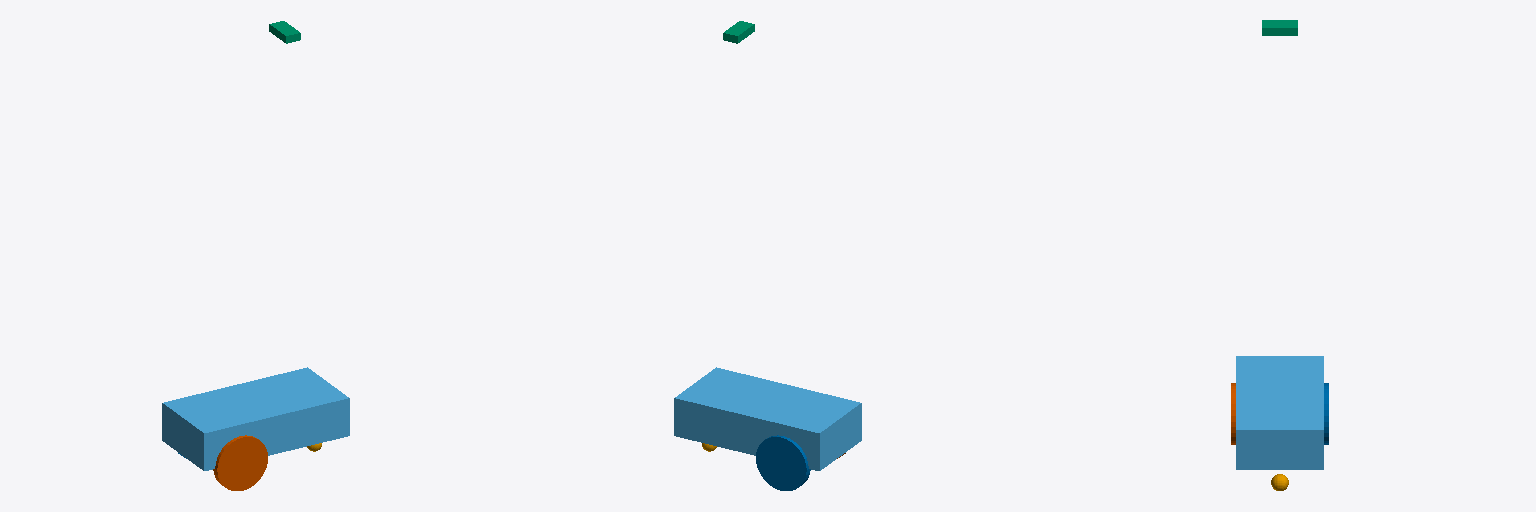
The robot description file, URDF, robot "yolobot":
<?xml version="1.0" ?>
<!-- =================================================================================== -->
<!-- |    This document was autogenerated by xacro from box_bot.xacro                  | -->
<!-- |    EDITING THIS FILE BY HAND IS NOT RECOMMENDED                                 | -->
<!-- =================================================================================== -->
<robot name="yolobot">
  <material name="black">
    <color rgba="0.0 0.0 0.0 1.0"/>
  </material>
  <material name="blue">
    <color rgba="0.203125 0.23828125 0.28515625 1.0"/>
  </material>
  <material name="green">
    <color rgba="0.0 0.8 0.0 1.0"/>
  </material>
  <material name="grey">
    <color rgba="0.2 0.2 0.2 1.0"/>
  </material>
  <material name="orange">
    <color rgba="1.0 0.423529411765 0.0392156862745 1.0"/>
  </material>
  <material name="brown">
    <color rgba="0.870588235294 0.811764705882 0.764705882353 1.0"/>
  </material>
  <material name="red">
    <color rgba="0.80078125 0.12890625 0.1328125 1.0"/>
  </material>
  <material name="white">
    <color rgba="1.0 1.0 1.0 1.0"/>
  </material>
  <gazebo reference="chassis">
    <material>Gazebo/Blue</material>
  </gazebo>
  <gazebo reference="left_wheel">
    <kp>1000.0</kp>
    <kd>1000.0</kd>
    <mu1>0.5</mu1>
    <mu2>0.5</mu2>
    <material>Gazebo/Blue</material>
  </gazebo>
  <gazebo reference="right_wheel">
    <kp>1000.0</kp>
    <kd>1000.0</kd>
    <mu1>0.5</mu1>
    <mu2>0.5</mu2>
    <material>Gazebo/Blue</material>
  </gazebo>
  <!-- ros_control plugin -->
  <gazebo>
    <plugin filename="libgazebo_ros_control.so" name="gazebo_ros_control">
      <robotNamespace>/yolobot</robotNamespace>
      <robotParam>/robot_description</robotParam>
      <robotSimType>gazebo_ros_control/DefaultRobotHWSim</robotSimType>
    </plugin>
  </gazebo>
  <gazebo>
    <plugin filename="libgazebo_ros_diff_drive.so" name="differential_drive_controller">

      <ros>
        <namespace>/yolobot</namespace>
      </ros>

      <!-- wheels -->
      <left_joint>joint_right_wheel</left_joint>
      <right_joint>joint_left_wheel</right_joint>

      <!-- kinematics -->
      <wheel_separation>0.1</wheel_separation>
      <wheel_diameter>0.025</wheel_diameter>

      <!-- limits -->
      <max_wheel_torque>0.1</max_wheel_torque>
      <max_wheel_acceleration>1.0</max_wheel_acceleration>

      <!-- output -->
      <publish_odom>true</publish_odom>
      <publish_odom_tf>true</publish_odom_tf>

      <odometry_frame>odom</odometry_frame>
      <robot_base_frame>chassis</robot_base_frame>


    </plugin>
  </gazebo>
  <!-- imu -->
  <gazebo>
    <plugin filename="libgazebo_ros_imu.so" name="gazebo_ros_imu_controller">
      <robotNamespace>/yolobot/</robotNamespace>
      <topicName>imu/data3</topicName>
      <serviceName>imu/service</serviceName>
      <bodyName>chassis</bodyName>
      <gaussianNoise>0</gaussianNoise>
      <rpyOffsets>0 0 0</rpyOffsets>
      <updateRate>50.0</updateRate>
      <alwaysOn>true</alwaysOn>
      <gaussianNoise>0</gaussianNoise>
    </plugin>
  </gazebo>

  <link name="base_link">
      </link>
  <link name="chassis">
    <!-- pose and inertial -->
    <pose>0 0 0 0 0 0</pose>
    <inertial>
      <mass value="1.0"/>
      <origin rpy="0 0 0" xyz="0 0 -0.025"/>
      <inertia ixx="0.00033333333333333343" ixy="0" ixz="0" iyy="0.00033333333333333343" iyz="0" izz="0.00033333333333333343"/>
      <inertia ixx="0.000241935" ixy="0" ixz="0" iyy="0.000241935" iyz="0" izz="0.000241935"/>
    </inertial>
    <!-- body -->
    <collision name="collision_chassis">
      <geometry>
        <box size="0.2 0.1 0.05"/>
      </geometry>
    </collision>
    <visual name="visual_chassis">
      <geometry>
        <box size="0.2 0.1 0.05"/>
      </geometry>
    </visual>
  </link>
  <gazebo reference="chassis">
    <material>Gazebo/Red</material>
  </gazebo>
  <joint name="base_link_joint" type="fixed">
    <origin rpy="0 0 0" xyz="0 0 0"/>
    <parent link="base_link"/>
    <child link="chassis"/>
  </joint>


  <!-- CAMERA-->
  <link name='rgb_cam_camera_link'>
		<visual>
			<origin xyz="0 0 0" rpy="0 0 0"/>
			<geometry>
				<box size="0.02 0.04 0.01"/>
			</geometry>
		</visual>
	</link>

  <joint name="rgb_cam_camera_link_joint" type="fixed">
		<origin rpy="0 0 0" xyz="0.04 0.0 0.5"/>
		<parent link="chassis"/>
		<child link="rgb_cam_camera_link"/>
	</joint>


    <link name="rgb_cam_camera_link_frame">
    </link>

    <joint name="rgb_cam_camera_frame_joint" type="fixed">
        <origin xyz="0.01 0 0" rpy="0 0 0" />
        <parent link="rgb_cam_camera_link" />
        <child link="rgb_cam_camera_link_frame" />
        <axis xyz="0 0 0"/>
    </joint>

    <gazebo reference="rgb_cam_camera_link_frame">
      <sensor type="camera" name="rgb_cam">
        <always_on>1</always_on>
        <update_rate>10.0</update_rate>
        <camera name="rgb_cam">
            <pose>0 0 0 0 0 0</pose>
            <horizontal_fov>1.3962634</horizontal_fov>
            <image>
             <width>640</width>
             <height>480</height>
             <format>R8G8B8</format>
            </image>
            <clip>
                <near>0.005</near>
                <far>20.0</far>
            </clip>
        </camera>
        <plugin name="camera_controller" filename="libgazebo_ros_camera.so">
            <alwaysOn>true</alwaysOn>
            <updateRate>0.0</updateRate>
            <cameraName>rgb_cam</cameraName>
            <imageTopicName>image_raw</imageTopicName>
            <cameraInfoTopicName>camera_info</cameraInfoTopicName>
            <frameName>rgb_cam_camera_link_frame</frameName>
            <hackBaseline>0.07</hackBaseline>
            <distortionK1>0.0</distortionK1>
            <distortionK2>0.0</distortionK2>
            <distortionK3>0.0</distortionK3>
            <distortionT1>0.0</distortionT1>
            <distortionT2>0.0</distortionT2>
        </plugin>
      </sensor>
    </gazebo>



  <link name="right_wheel">
    <inertial>
      <mass value="0.2"/>
      <origin rpy="0 1.5707 1.5707" xyz="0 0 0"/>
      <inertia ixx="3.126666666666667e-05" ixy="0" ixz="0" iyy="3.126666666666667e-05" iyz="0" izz="6.250000000000001e-05"/>
    </inertial>
    <collision name="link_right_wheel_collision">
      <origin rpy="0 1.5707 1.5707" xyz="0 0 0"/>
      <geometry>
        <cylinder length="0.01" radius="0.035"/>
      </geometry>
    </collision>
    <visual name="link_right_wheel_visual">
      <origin rpy="0 1.5707 1.5707" xyz="0 0 0"/>
      <geometry>
        <cylinder length="0.01" radius="0.035"/>
      </geometry>
    </visual>
  </link>
  <joint name="joint_right_wheel" type="continuous">
    <origin rpy="0 0 0" xyz="-0.05 0.05 -0.025"/>
    <child link="right_wheel"/>
    <parent link="chassis"/>
    <axis rpy="0 0 0" xyz="0 1 0"/>
    <limit effort="10000" velocity="1000"/>
    <joint_properties damping="1.0" friction="1.0"/>
  </joint>
  <link name="left_wheel">
    <inertial>
      <mass value="0.2"/>
      <origin rpy="0 1.5707 1.5707" xyz="0 0 0"/>
      <inertia ixx="3.126666666666667e-05" ixy="0" ixz="0" iyy="3.126666666666667e-05" iyz="0" izz="6.250000000000001e-05"/>
    </inertial>
    <collision name="link_right_wheel_collision">
      <origin rpy="0 1.5707 1.5707" xyz="0 0 0"/>
      <geometry>
        <cylinder length="0.01" radius="0.035"/>
      </geometry>
    </collision>
    <visual name="link_right_wheel_visual">
      <origin rpy="0 1.5707 1.5707" xyz="0 0 0"/>
      <geometry>
        <cylinder length="0.01" radius="0.035"/>
      </geometry>
    </visual>
  </link>
  <joint name="joint_left_wheel" type="continuous">
    <origin rpy="0 0 0" xyz="-0.05 -0.05 -0.025"/>
    <child link="left_wheel"/>
    <parent link="chassis"/>
    <axis rpy="0 0 0" xyz="0 1 0"/>
    <limit effort="10000" velocity="1000"/>
    <joint_properties damping="1.0" friction="1.0"/>
  </joint>
  <!-- CASTER FRONT-->
  <link name="front_yaw_link">
    <inertial>
      <mass value="0.001"/>
      <origin rpy="0 1.5707 1.5707" xyz="0 0 0"/>
      <inertia ixx="5.145833333333334e-09" ixy="0" ixz="0" iyy="5.145833333333334e-09" iyz="0" izz="1.0125000000000003e-08"/>
    </inertial>
    <collision name="link_right_wheel_collision">
      <origin rpy="0 1.5707 1.5707" xyz="0 0 0"/>
      <geometry>
        <cylinder length="0.001" radius="0.0045000000000000005"/>
      </geometry>
    </collision>
  </link>
  <joint name="front_yaw_joint" type="continuous">
    <origin rpy="0 0 0" xyz="0.08 0 -0.05"/>
    <parent link="chassis"/>
    <child link="front_yaw_link"/>
    <axis xyz="0 0 1"/>
    <limit effort="1000.0" velocity="100.0"/>
    <dynamics damping="0.0" friction="0.1"/>
  </joint>
  <transmission name="front_yaw_joint_trans">
    <type>transmission_interface/SimpleTransmission</type>
    <joint name="front_yaw_joint">
      <hardwareInterface>EffortJointInterface</hardwareInterface>
    </joint>
    <actuator name="front_yaw_jointMotor">
      <hardwareInterface>EffortJointInterface</hardwareInterface>
      <mechanicalReduction>1</mechanicalReduction>
    </actuator>
  </transmission>
  <link name="front_roll_link">
    <inertial>
      <mass value="0.001"/>
      <origin rpy="0 1.5707 1.5707" xyz="0 0 0"/>
      <inertia ixx="5.145833333333334e-09" ixy="0" ixz="0" iyy="5.145833333333334e-09" iyz="0" izz="1.0125000000000003e-08"/>
    </inertial>
    <collision name="link_right_wheel_collision">
      <origin rpy="0 1.5707 1.5707" xyz="0 0 0"/>
      <geometry>
        <cylinder length="0.001" radius="0.0045000000000000005"/>
      </geometry>
    </collision>
  </link>
  <joint name="front_roll_joint" type="continuous">
    <origin rpy="0 0 0" xyz="0 0 0"/>
    <parent link="front_yaw_link"/>
    <child link="front_roll_link"/>
    <axis xyz="1 0 0"/>
    <limit effort="1000.0" velocity="100.0"/>
    <dynamics damping="0.0" friction="0.1"/>
  </joint>
  <transmission name="front_roll_joint_trans">
    <type>transmission_interface/SimpleTransmission</type>
    <joint name="front_roll_joint">
      <hardwareInterface>EffortJointInterface</hardwareInterface>
    </joint>
    <actuator name="front_roll_jointMotor">
      <hardwareInterface>EffortJointInterface</hardwareInterface>
      <mechanicalReduction>1</mechanicalReduction>
    </actuator>
  </transmission>
  <link name="front_pitch_link">
    <inertial>
      <mass value="0.001"/>
      <origin rpy="0 1.5707 1.5707" xyz="0 0 0"/>
      <inertia ixx="4e-08" ixy="0" ixz="0" iyy="4e-08" iyz="0" izz="4e-08"/>
    </inertial>
    <collision name="front_collision">
      <origin rpy="0 1.5707 1.5707" xyz="0 0 0"/>
      <geometry>
        <sphere radius="0.01"/>
      </geometry>
    </collision>
    <visual name="front_visual">
      <origin rpy="0 1.5707 1.5707" xyz="0 0 0"/>
      <geometry>
        <sphere radius="0.01"/>
      </geometry>
    </visual>
  </link>
  <joint name="front_pitch_joint" type="continuous">
    <origin rpy="0 0 0" xyz="0 0 0"/>
    <parent link="front_roll_link"/>
    <child link="front_pitch_link"/>
    <axis xyz="0 1 0"/>
    <limit effort="1000.0" velocity="100.0"/>
    <dynamics damping="0.0" friction="0.1"/>
  </joint>
  <transmission name="front_pitch_joint_trans">
    <type>transmission_interface/SimpleTransmission</type>
    <joint name="front_pitch_joint">
      <hardwareInterface>EffortJointInterface</hardwareInterface>
    </joint>
    <actuator name="front_pitch_jointMotor">
      <hardwareInterface>EffortJointInterface</hardwareInterface>
      <mechanicalReduction>1</mechanicalReduction>
    </actuator>
  </transmission>
  <gazebo reference="front_pitch_link">
    <kp>1000000000000000000000000000.0</kp>
    <kd>1000000000000000000000000000.0</kd>
    <mu1>0.5</mu1>
    <mu2>0.5</mu2>
    <material>Gazebo/Green</material>
  </gazebo>
  
</robot>

--- Facts derived from the render (not from the file) ---
3 views of the same robot in one strip: view 1: azimuth 30°, elevation 25°; view 2: azimuth 150°, elevation 25°; view 3: azimuth 270°, elevation 25° (orthographic).
Robot: yolobot — 9 links, 8 joints (5 continuous, 3 fixed); root link base_link; default pose: every joint at zero.
Links seen in each view (by area): view 1: chassis, left_wheel; view 2: chassis, right_wheel; view 3: chassis, rgb_cam_camera_link.
Link boxes in pixels (x1,y1,x2,y2): chassis: (162, 367, 349, 470); left_wheel: (213, 435, 267, 490); chassis: (674, 367, 861, 470); right_wheel: (756, 435, 810, 490); chassis: (1236, 356, 1323, 469); rgb_cam_camera_link: (1262, 20, 1297, 35).
Size in the robot's own frame: 0.2 by 0.11 by 0.565 metres.
Geometry: primitives only (box / cylinder / sphere), no mesh files.